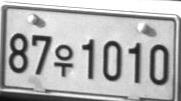0: (101, 39, 122, 82), (148, 43, 169, 85)
1: (79, 38, 100, 80), (126, 42, 147, 83)
7: (30, 33, 53, 74)
8: (8, 31, 30, 74)
우: (52, 43, 74, 77)
